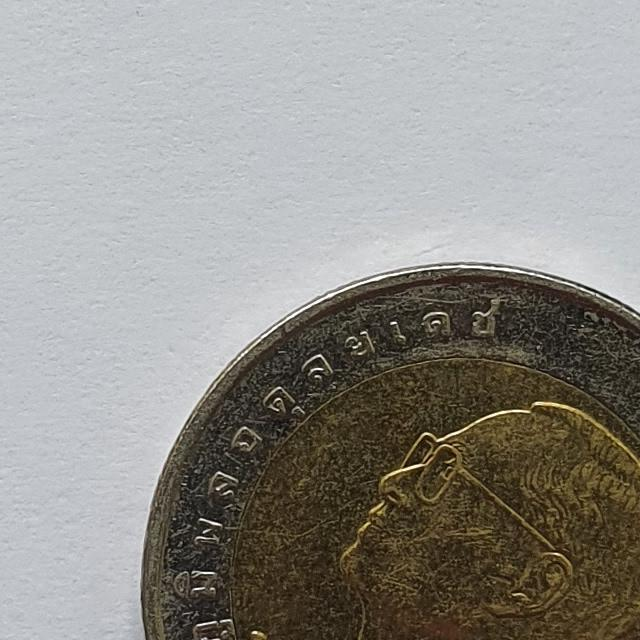10 Bath: (124, 252, 640, 640)
